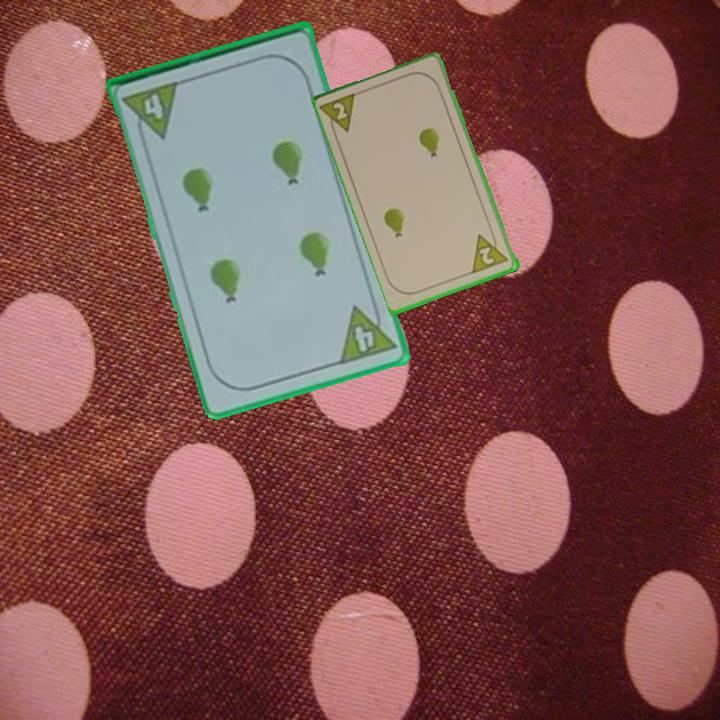2p: (318, 89, 361, 140), (469, 227, 512, 276)
4p: (335, 297, 399, 368), (119, 78, 183, 146)
